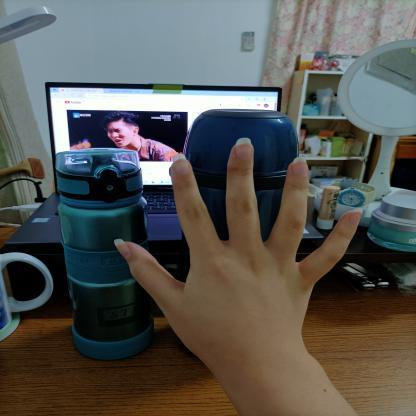bare_hand: (99, 125, 376, 384)
